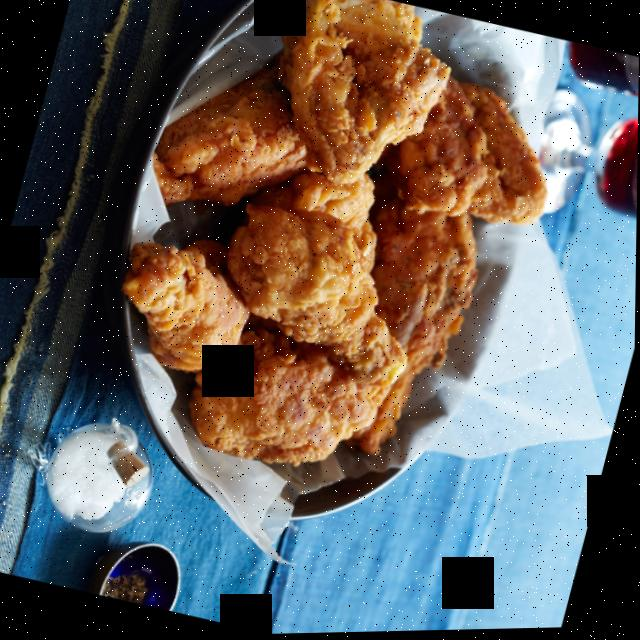Frango: (74, 0, 589, 520)
